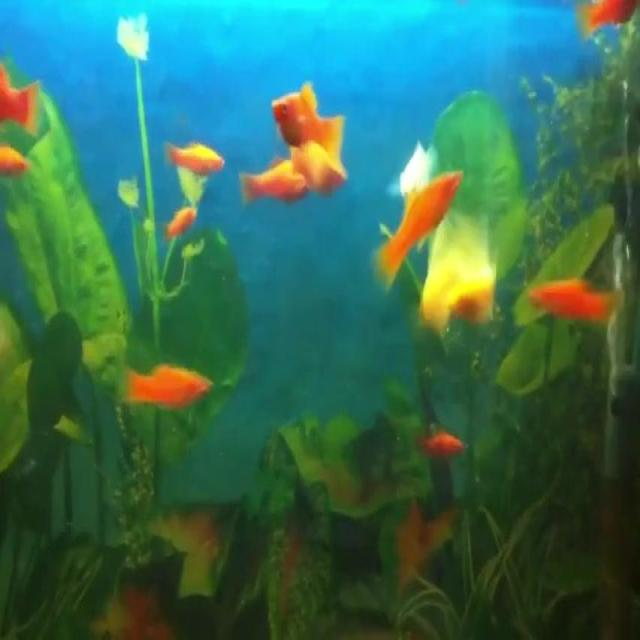PlatyFish: (364, 153, 468, 303), (268, 71, 356, 164)
